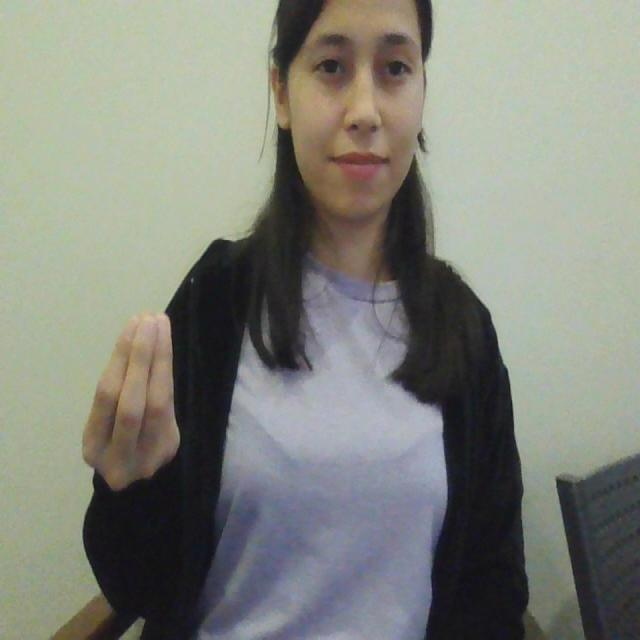iyi: (80, 301, 189, 490)
